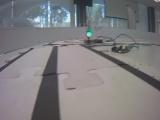tl_green: (86, 19, 92, 37)
